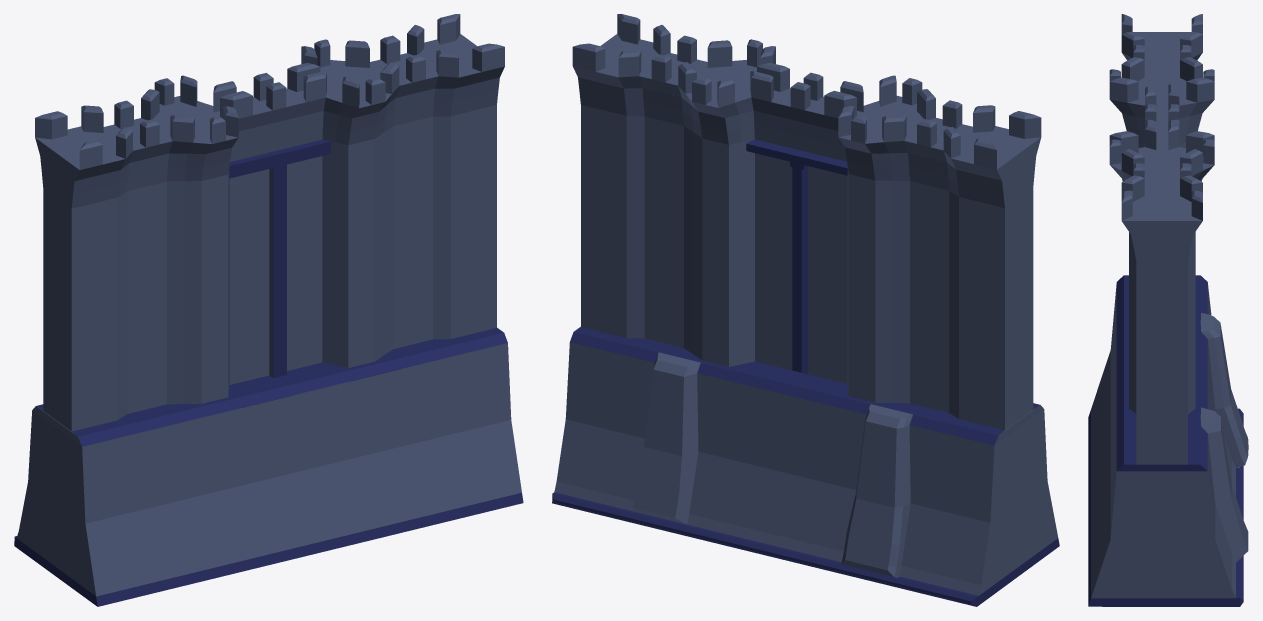
The model's file is Wall.fbx.
3 renders of one model, left to right at view 1: azimuth 30°, elevation 25°; view 2: azimuth 150°, elevation 25°; view 3: azimuth 270°, elevation 25°, orthographic. The views are drawn at different scales.
Parts seen in each view (by area): view 1: Plane; view 2: Plane; view 3: Plane.
Boxes of the visible parts, bbox=[...] form: Plane: bbox=[14, 14, 523, 606]; Plane: bbox=[552, 14, 1059, 606]; Plane: bbox=[1088, 14, 1248, 606].
Bounding box in the file's own units: 601 × 600 × 215.
